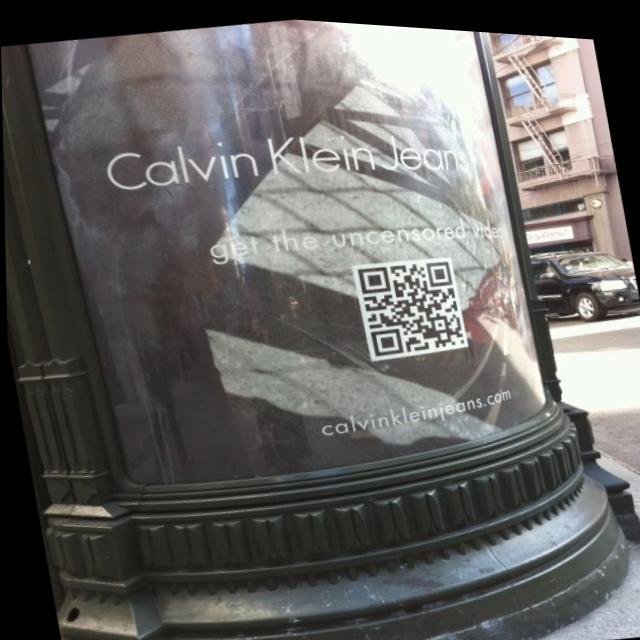qrcode: (357, 251, 464, 357)
